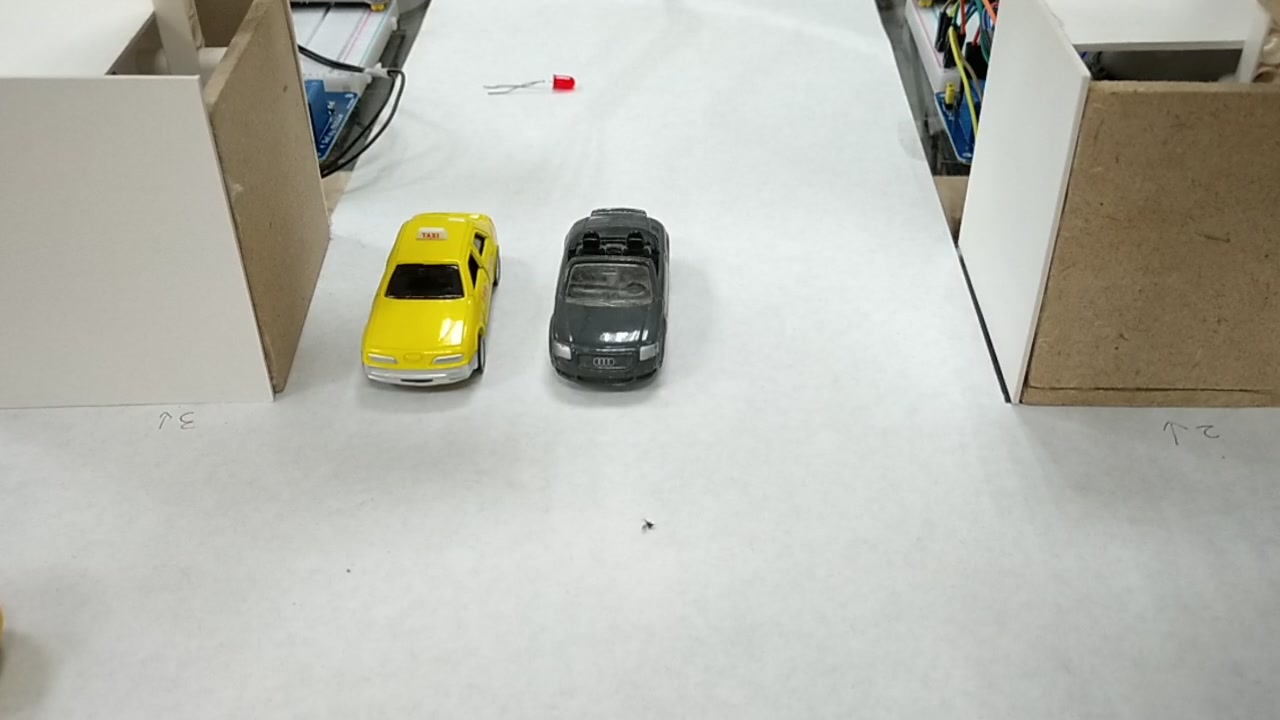car: (359, 217, 502, 392), (552, 206, 661, 381)
